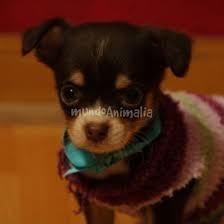chihuahua: (8, 11, 215, 219)
